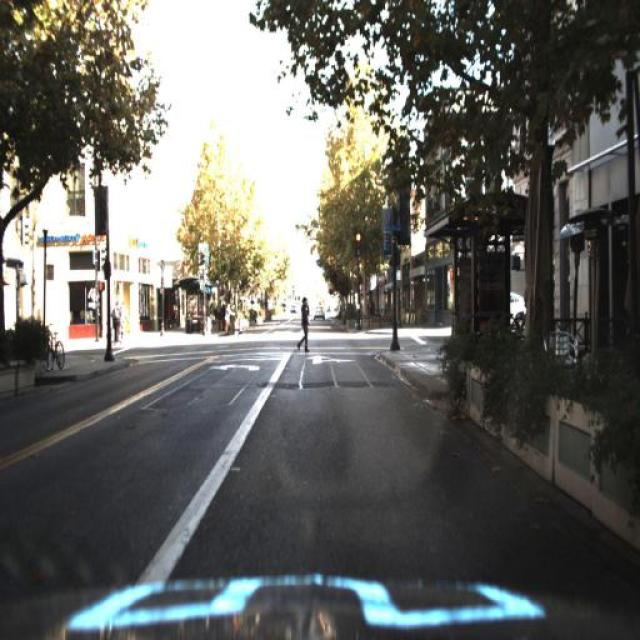car: (493, 272, 536, 343)
trafficLight: (294, 289, 315, 355), (218, 291, 246, 338), (119, 288, 133, 353), (110, 292, 120, 352)
trafficLight-RedLeft: (348, 222, 363, 264)
